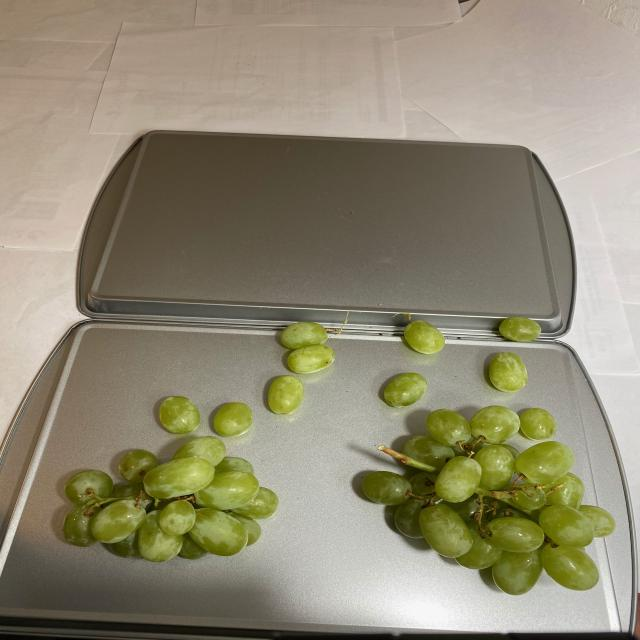grapes: (49, 318, 616, 565)
